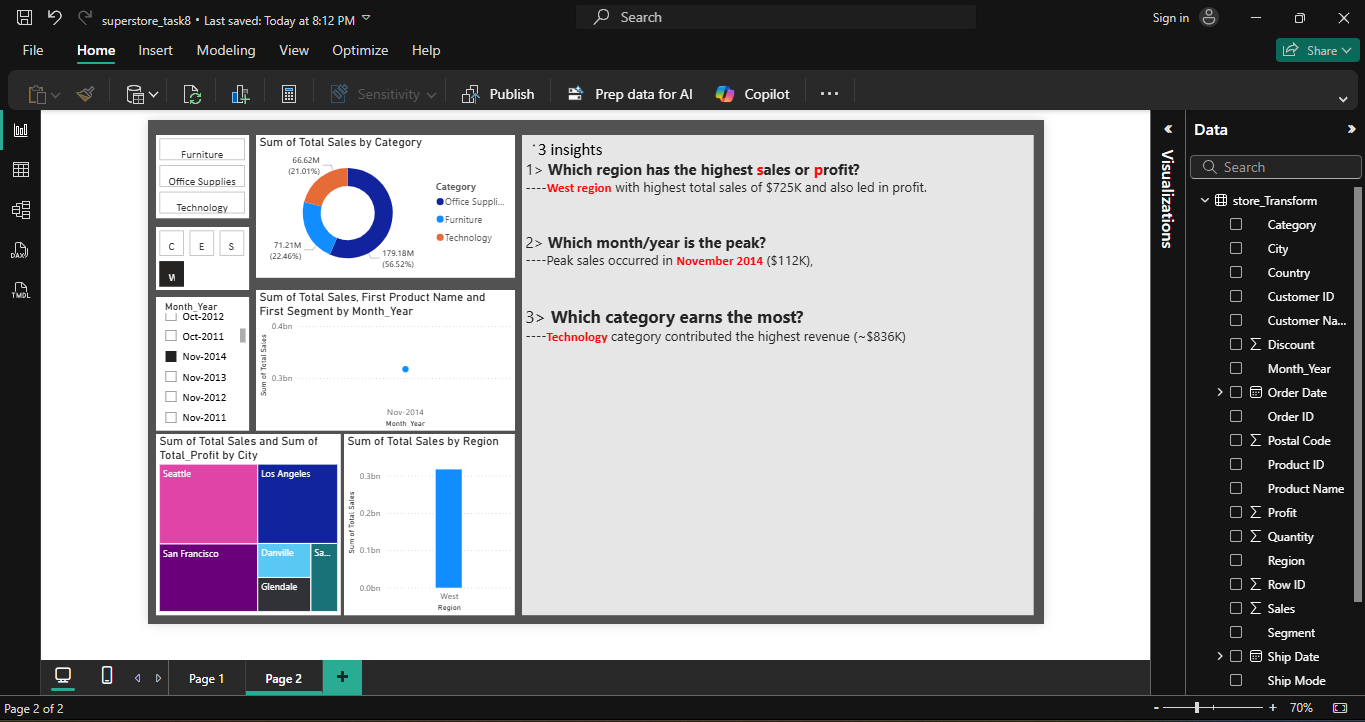

Layout of this report page (visuals, bound fields, positions):
{"tool":"powerbi","page":{"name":"Page 2","canvas":[1280,720],"ordinal":1},"visuals":[{"type":"lineChart","fields":{"Category":["store_Transform.Month_Year"],"Y":["Sum(store_Transform.Total Sales)"]},"box":[154.3,242.9,370,201.4],"z":0},{"type":"donutChart","fields":{"Category":["store_Transform.Category"],"Y":["Sum(store_Transform.Total Sales)"]},"box":[154.3,21.4,370,204.3],"z":1000},{"type":"columnChart","fields":{"Category":["store_Transform.Region"],"Y":["Sum(store_Transform.Total Sales)"]},"box":[280,448.6,244.3,258.6],"z":2000},{"type":"advancedSlicerVisual","fields":{"Values":["store_Transform.Region"]},"box":[11.4,152.9,132.9,90],"z":3000},{"type":"advancedSlicerVisual","fields":{"Values":["store_Transform.Category"]},"box":[11.4,21.4,132.9,118.6],"z":4000},{"type":"treemap","fields":{"Group":["store_Transform.City"],"Values":["Sum(store_Transform.Total Sales)"]},"box":[11.4,448.6,264.3,258.6],"z":5000},{"type":"slicer","fields":{"Values":["store_Transform.Month_Year"]},"box":[11.4,252.9,132.9,191.4],"z":6000},{"type":"textbox","box":[534.3,21.4,731.4,685.7],"z":6001}]}

Visuals, with their boxes on the page's 1280x720 design canvas (x1, y1, x2, y2). These are canvas units, not pixel positions in the 1365x722 screenshot, which may show the page scaled, cropped or inside an application window:
lineChart - store_Transform.Month_Year x Sum(store_Transform.Total Sales): pyautogui.locateOnScreen(154, 243, 524, 444)
donutChart - store_Transform.Category x Sum(store_Transform.Total Sales): pyautogui.locateOnScreen(154, 21, 524, 226)
columnChart - store_Transform.Region x Sum(store_Transform.Total Sales): pyautogui.locateOnScreen(280, 449, 524, 707)
advancedSlicerVisual - store_Transform.Region: pyautogui.locateOnScreen(11, 153, 144, 243)
advancedSlicerVisual - store_Transform.Category: pyautogui.locateOnScreen(11, 21, 144, 140)
treemap - store_Transform.City x Sum(store_Transform.Total Sales): pyautogui.locateOnScreen(11, 449, 276, 707)
slicer - store_Transform.Month_Year: pyautogui.locateOnScreen(11, 253, 144, 444)
textbox: pyautogui.locateOnScreen(534, 21, 1266, 707)
